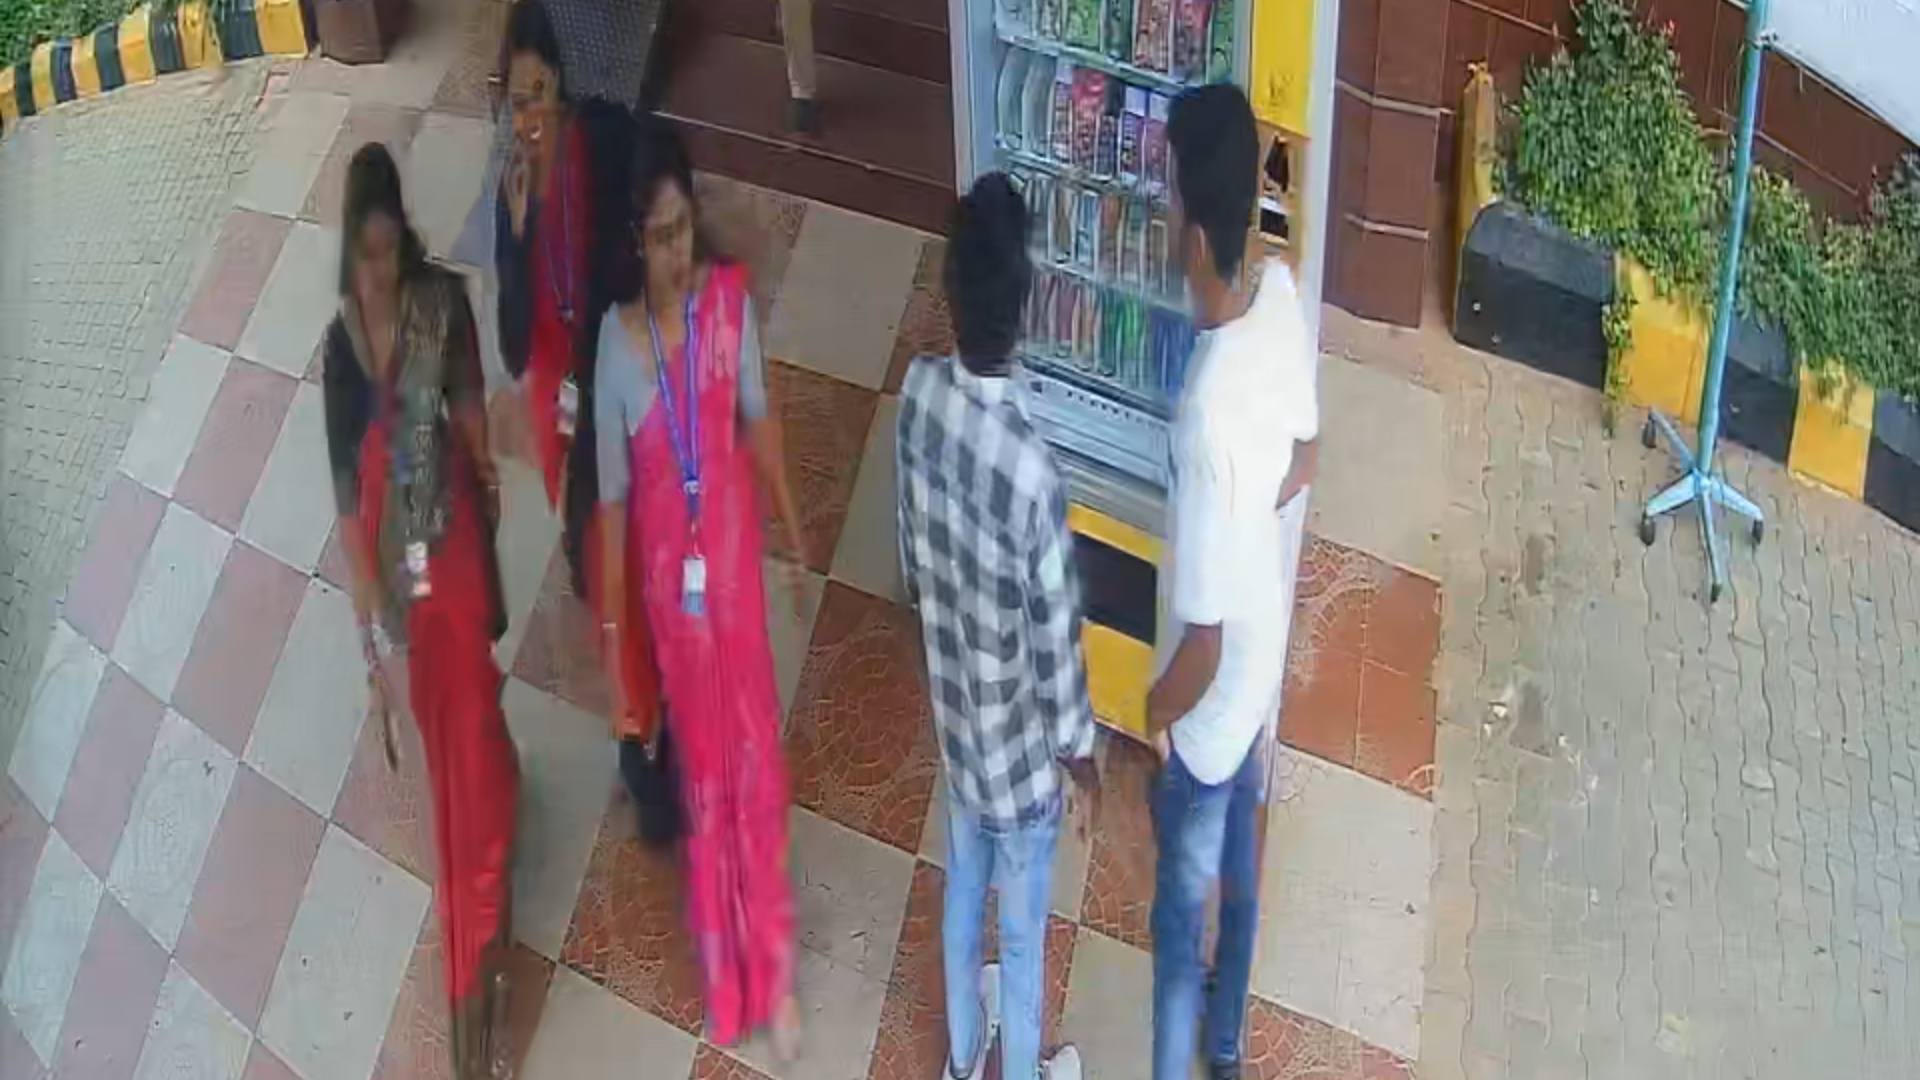not intruder: (301, 123, 537, 1080), (604, 123, 816, 1080), (471, 1, 698, 851)
